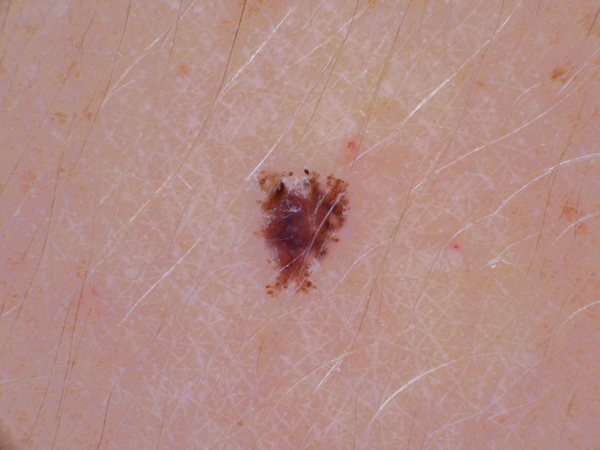Detected Lesion: (256, 169, 355, 298)
